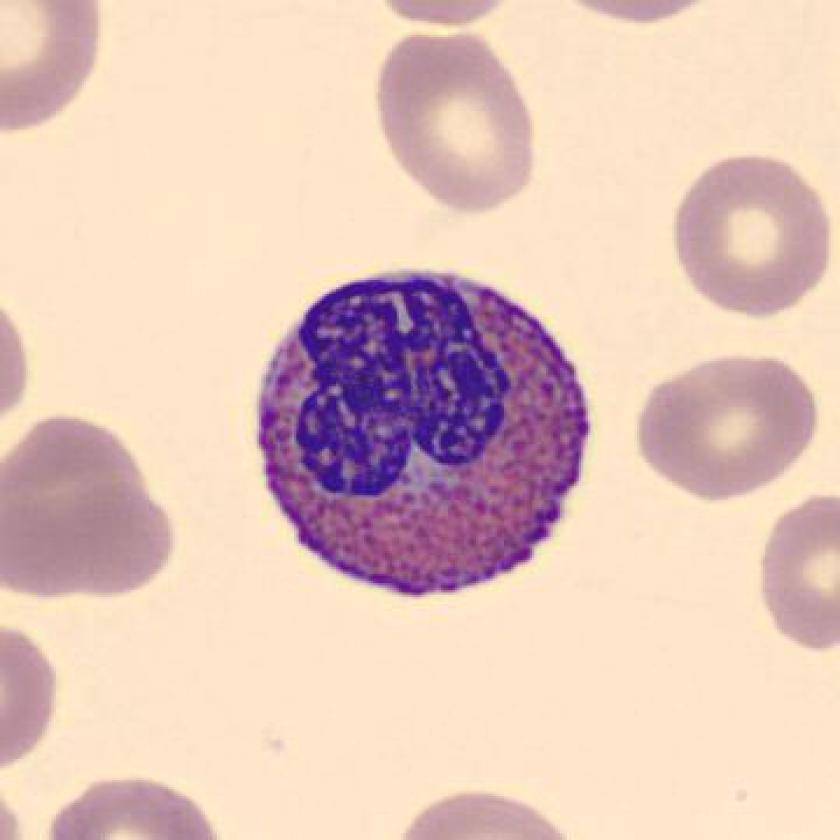eosinophil: (244, 258, 601, 609)
